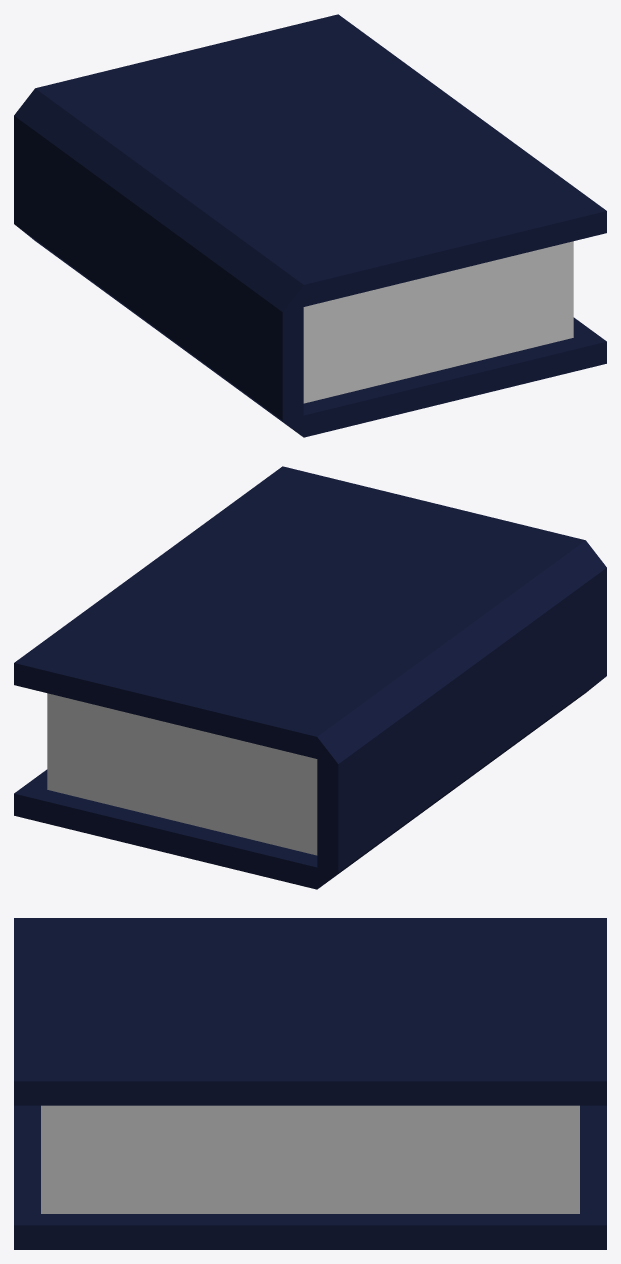
Rendered from Book3.fbx.
3 views of the same model, one above another, from view 1: azimuth 30°, elevation 25°; view 2: azimuth 150°, elevation 25°; view 3: azimuth 270°, elevation 25° (orthographic). The views are drawn at different scales.
Parts seen in each view (by area): view 1: Cube; view 2: Cube; view 3: Cube.
Part boxes in pixels (x1=…): Cube: x1=14, y1=14, x2=606, y2=437; Cube: x1=14, y1=466, x2=606, y2=889; Cube: x1=14, y1=918, x2=606, y2=1249.
Size of the model in its own units: 0.345 by 0.1553 by 0.495.
